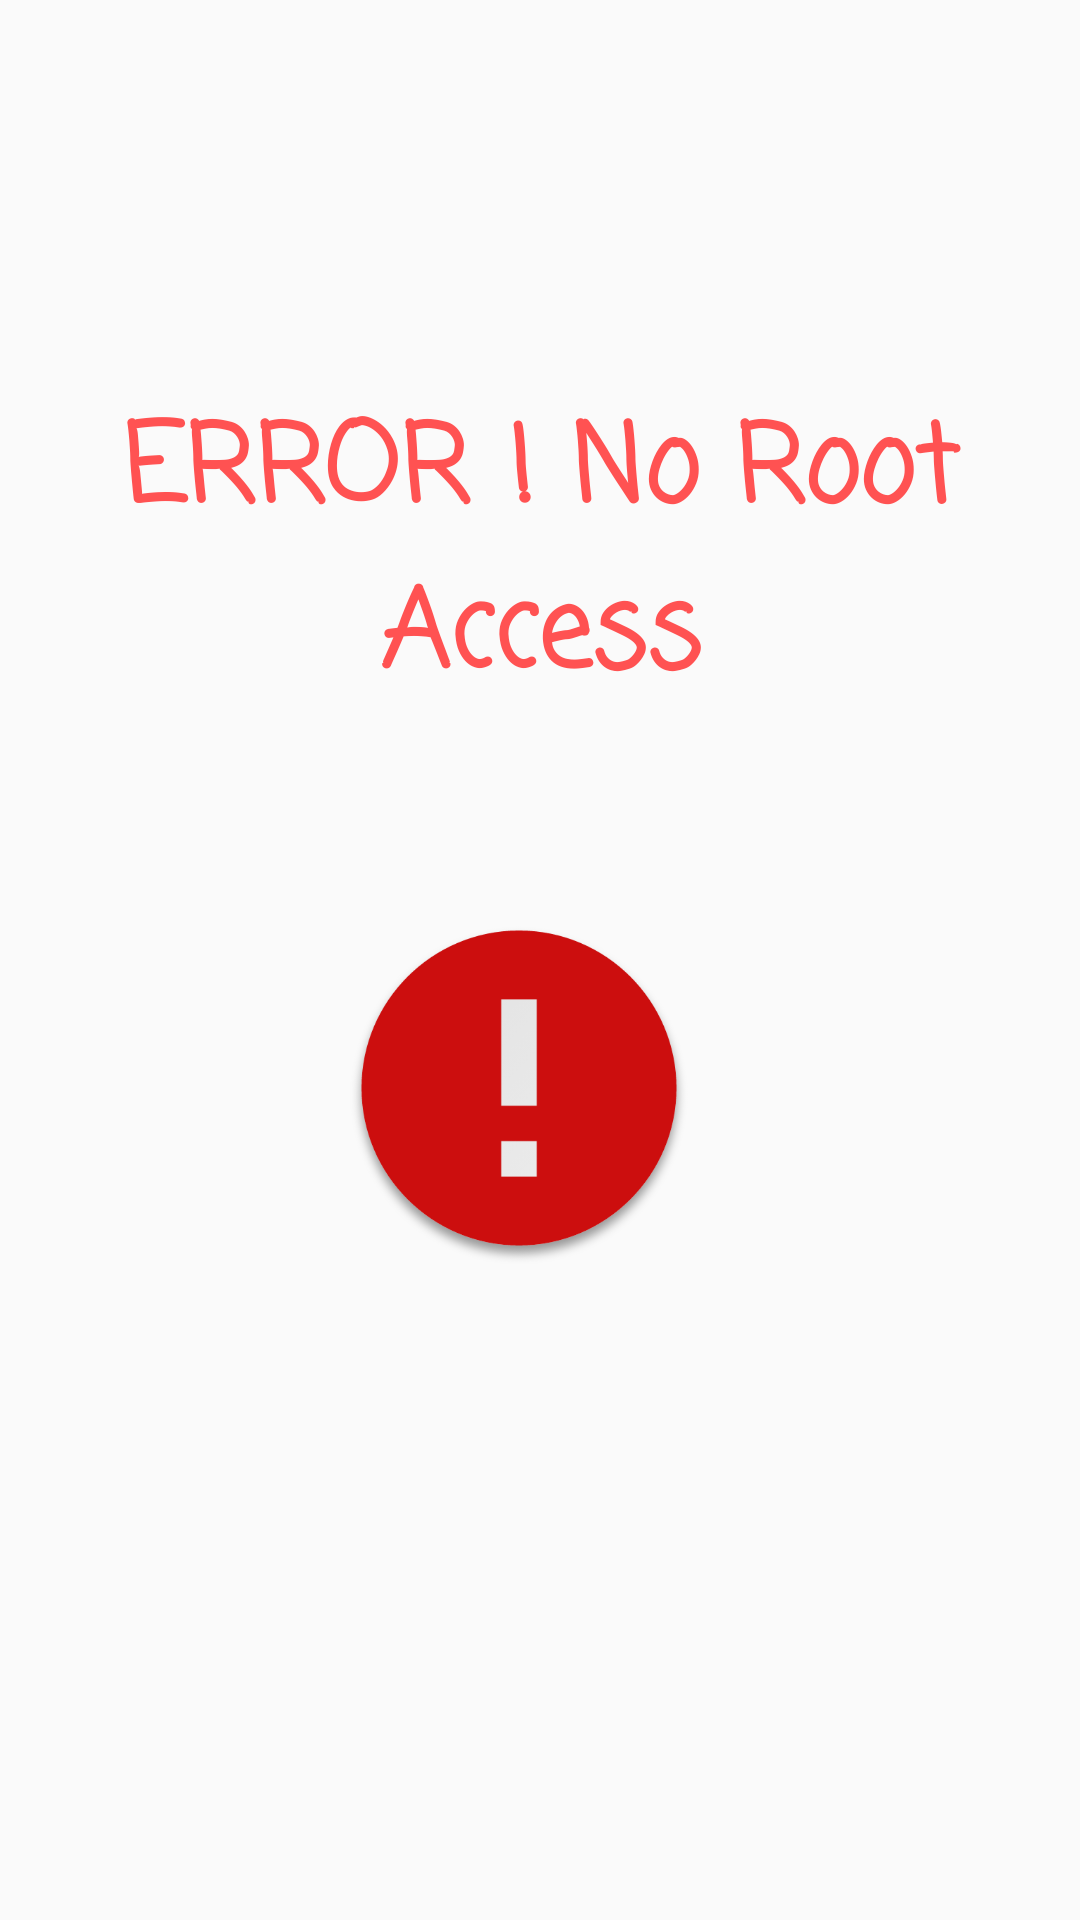

Named icons in this screenshot (1080w x 1920h) and their bounding boxes, bbox=[x1, y1, x2, y2]:
error: bbox=[358, 930, 680, 1256]
